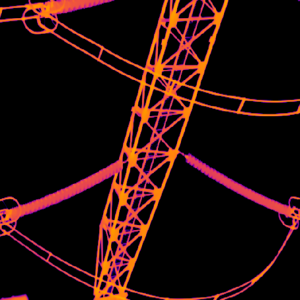insulator: (184, 150, 292, 219), (9, 156, 123, 220), (45, 0, 111, 12)
